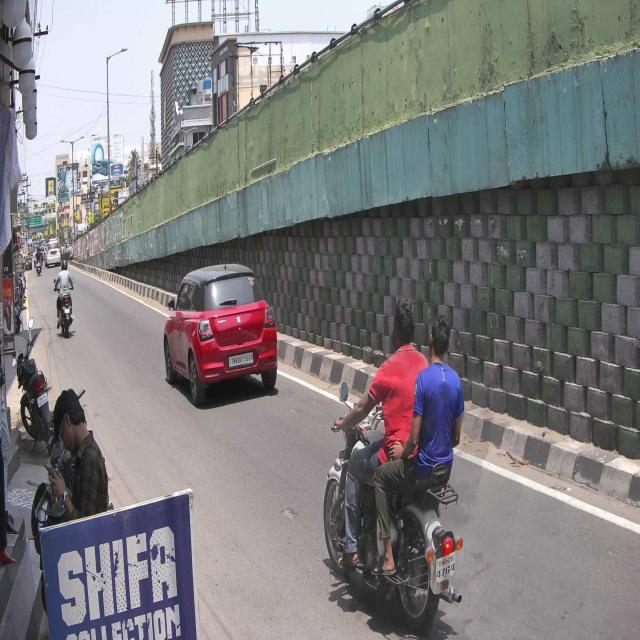double_rider: (323, 295, 466, 634)
